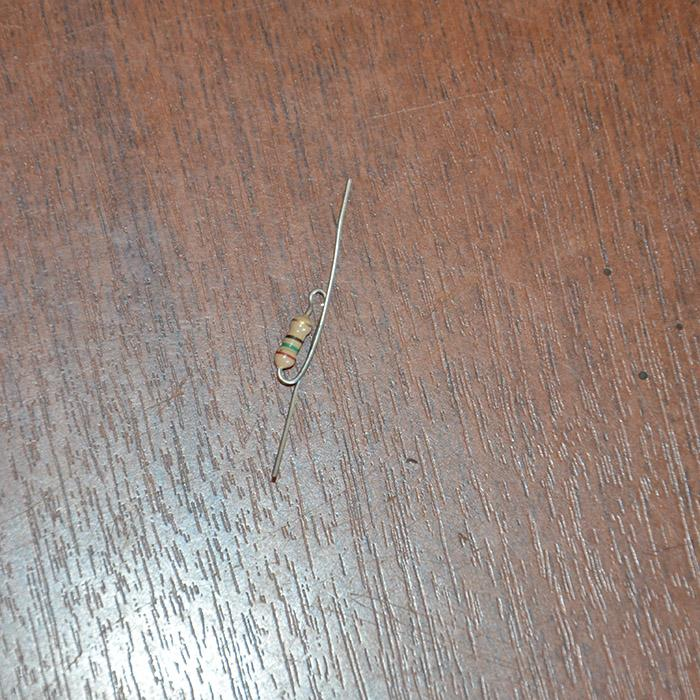resistor: (275, 313, 314, 369)
